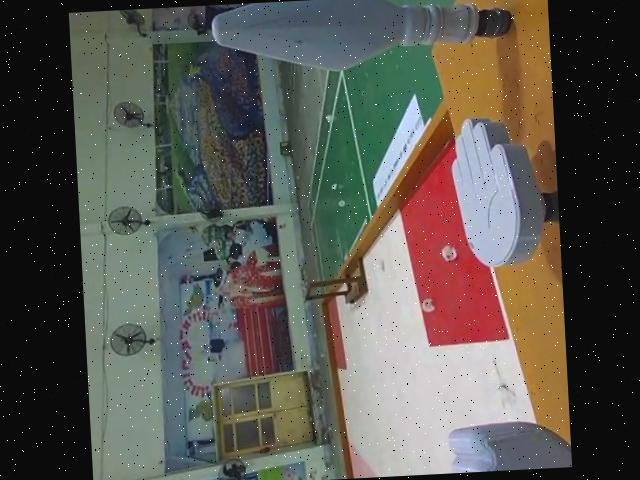Fist: (444, 414, 573, 474)
Hand: (443, 115, 562, 271)
Sph: (205, 0, 524, 79)
